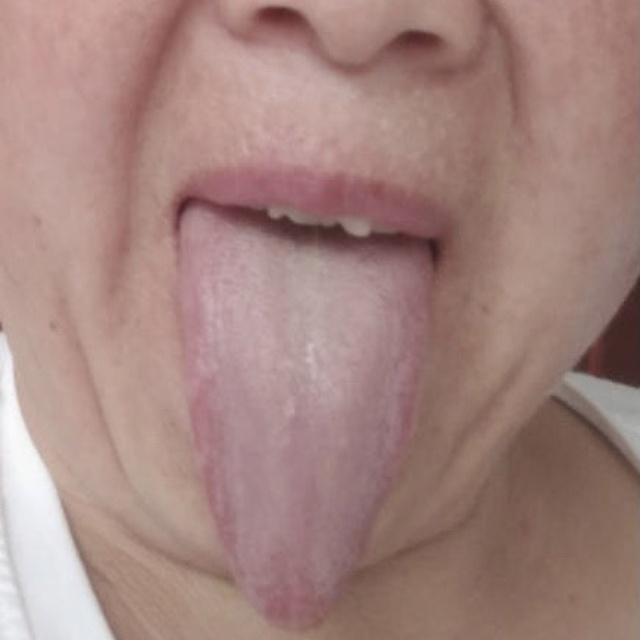baitaishe: (179, 213, 432, 634)
